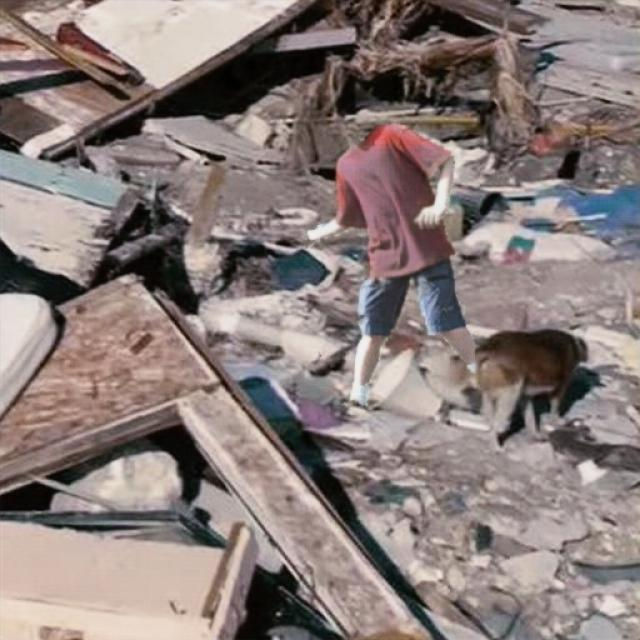Person in Rubble: (304, 122, 474, 406)
